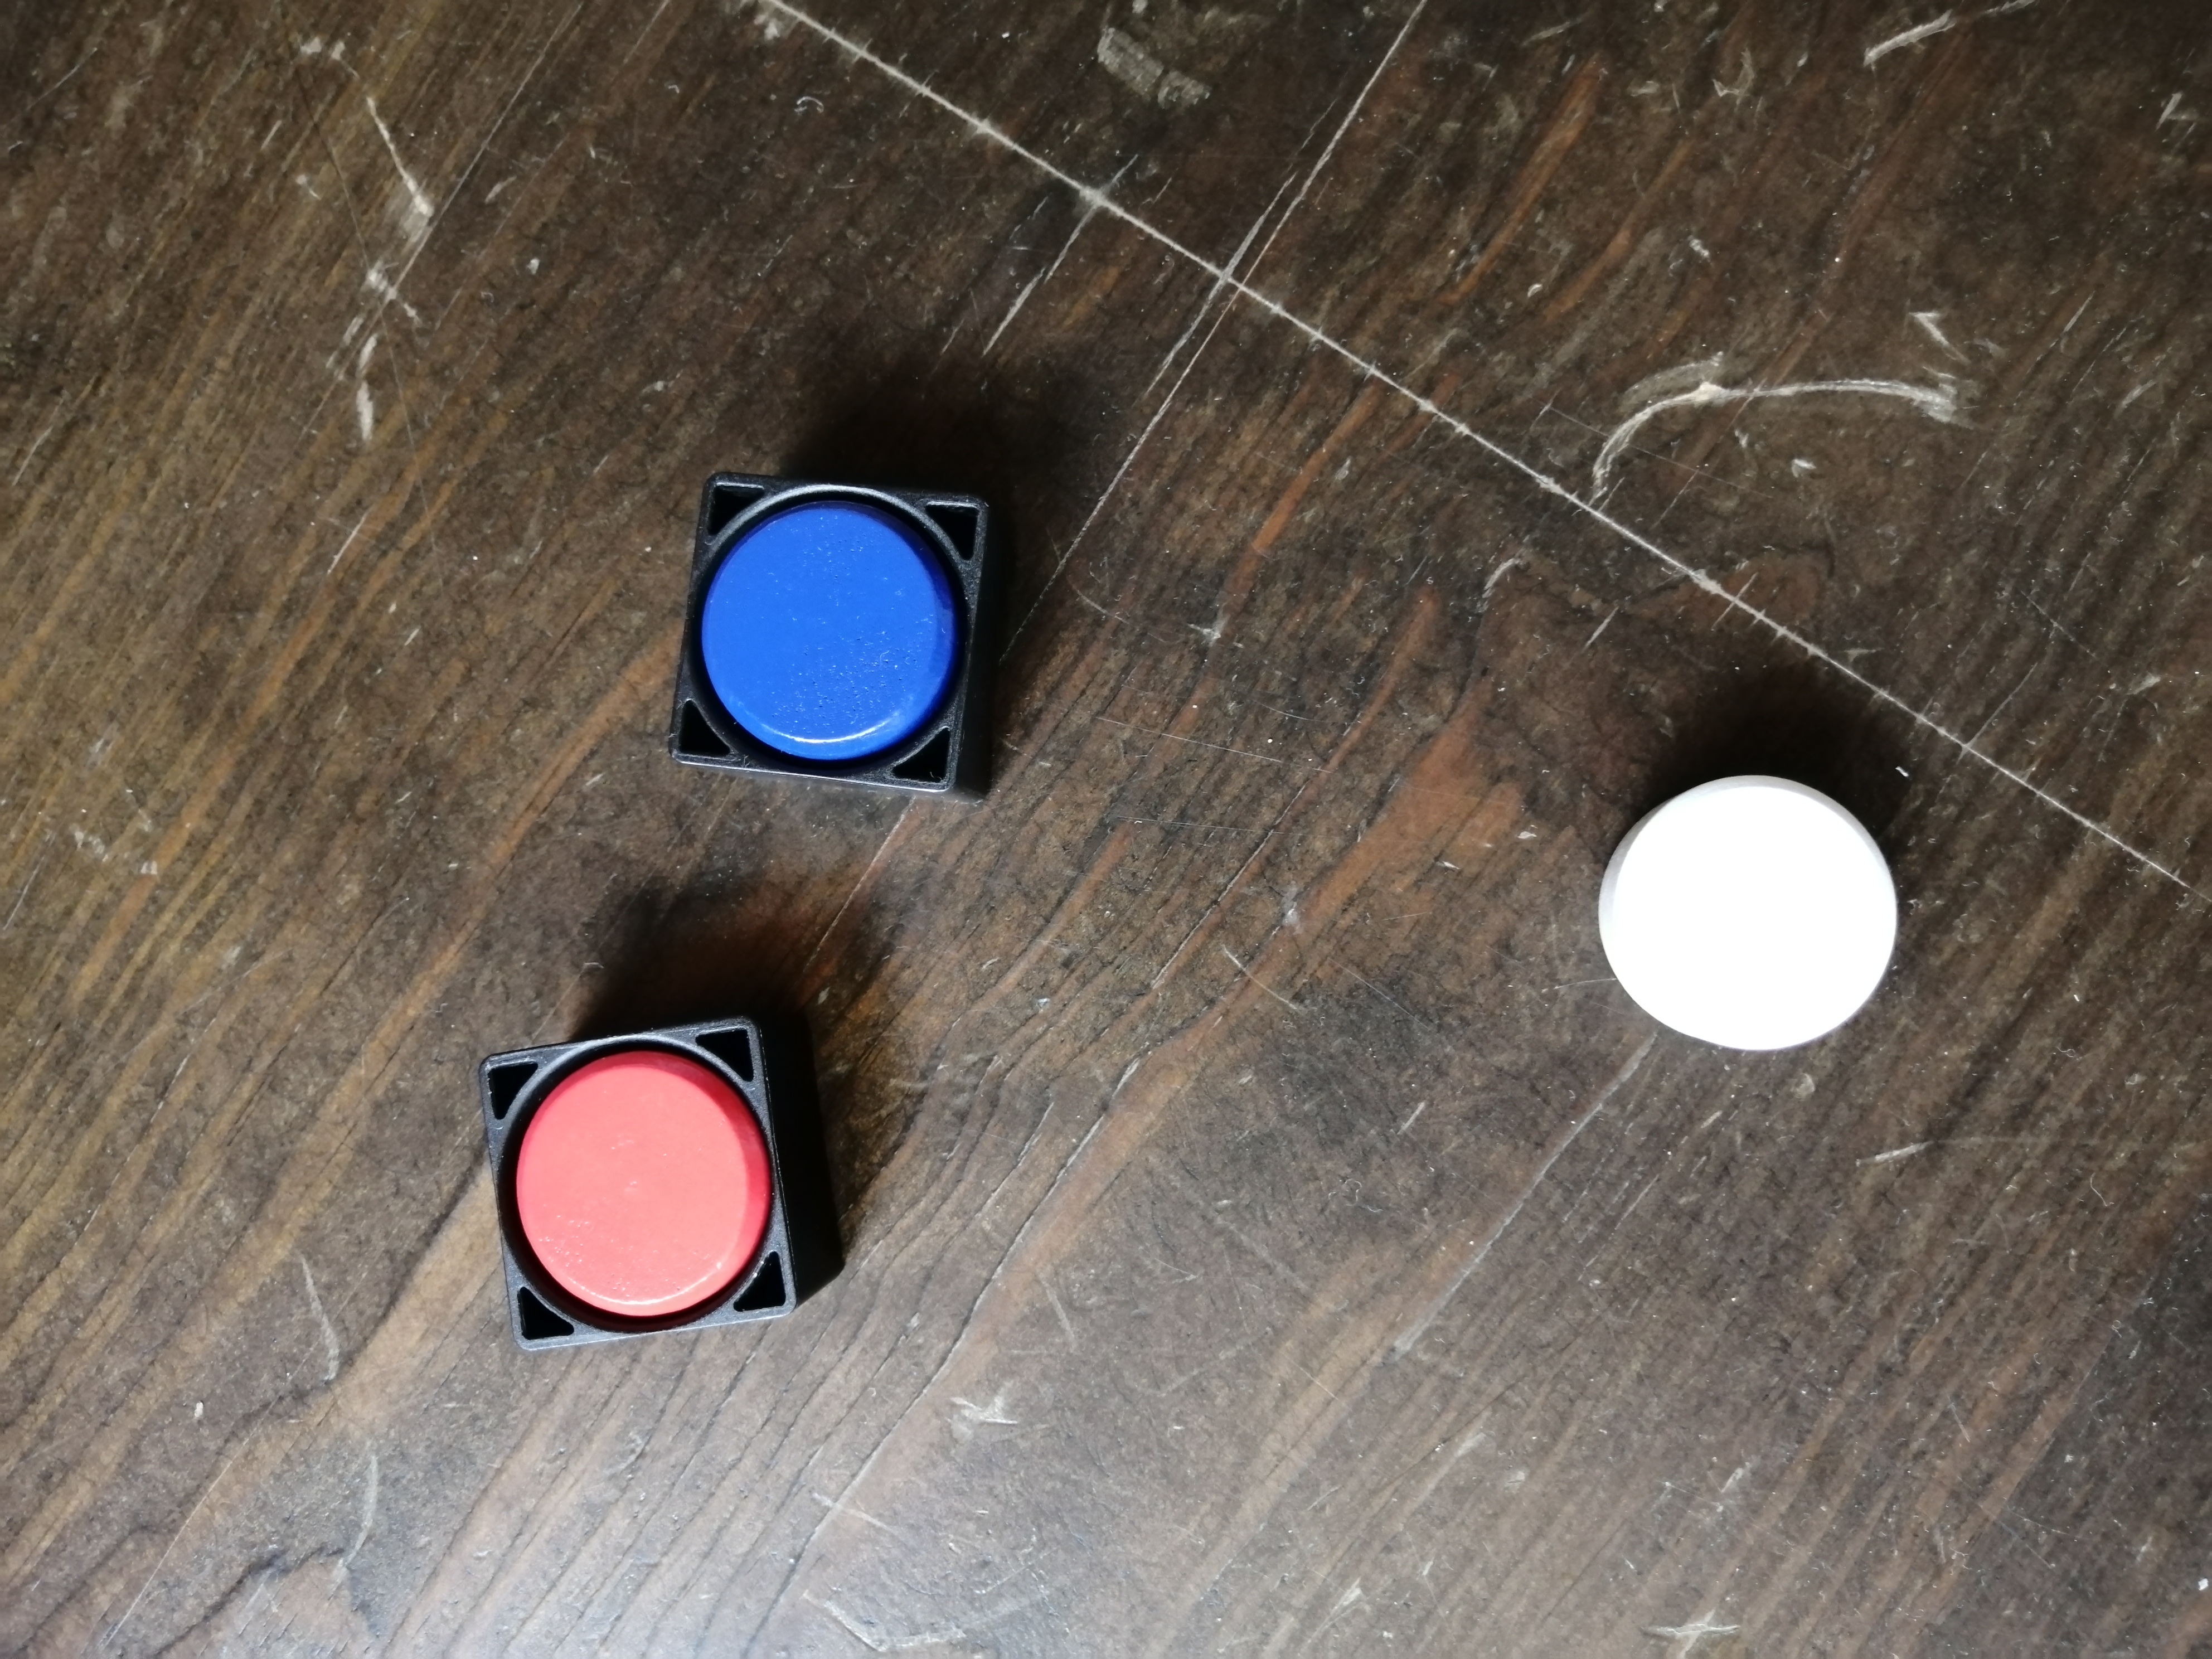Behaelter: (481, 1018, 846, 1340), (665, 479, 991, 816)
WerkStueck: (1601, 772, 1888, 1056), (698, 500, 954, 765), (517, 1061, 756, 1314)
